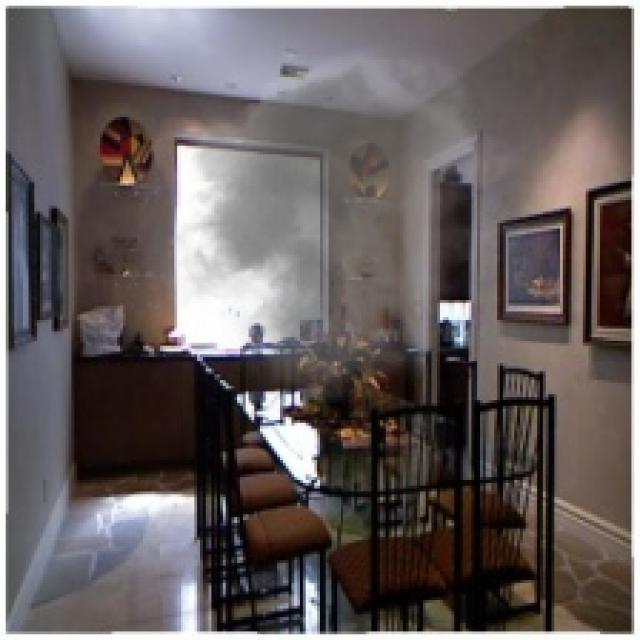smoke: (148, 34, 528, 403)
